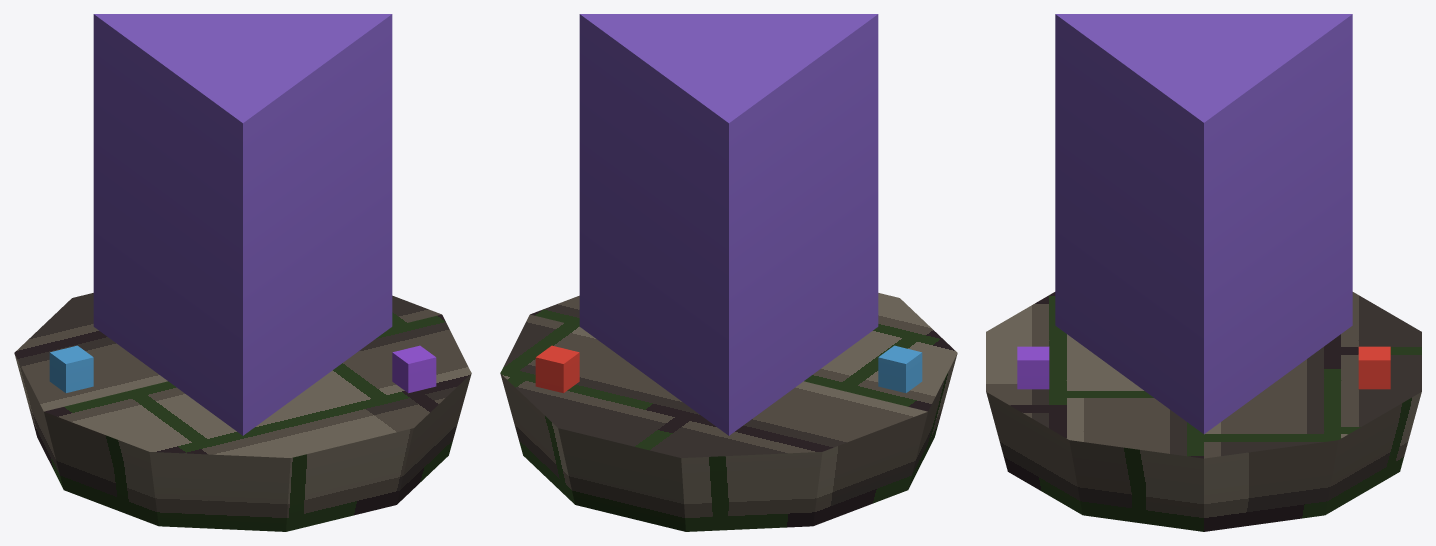
File: prism_splitter.glb
The picture shows the model from 3 angles, left to right: view 1: azimuth 30°, elevation 25°; view 2: azimuth 150°, elevation 25°; view 3: azimuth 270°, elevation 25°; orthographic projection.
Parts seen in each view (by area): view 1: prism_splitter; view 2: prism_splitter; view 3: prism_splitter.
Boxes of the visible parts, x1,y1,x2,y2 form: prism_splitter: (14, 14, 471, 531); prism_splitter: (500, 14, 957, 531); prism_splitter: (986, 14, 1421, 531).
Size of the model in its own units: 2 by 1.9 by 1.9.
2 materials, 1 textured.
